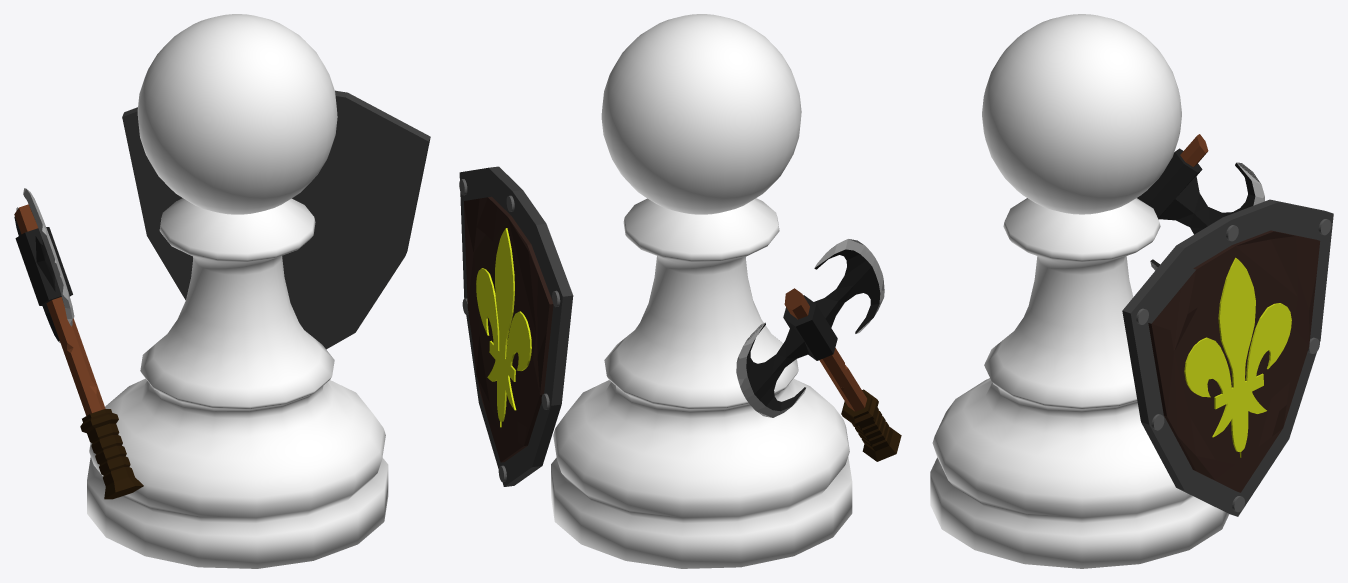
File: pion_guerrier.glb
3 renders of one model, left to right at view 1: azimuth 30°, elevation 25°; view 2: azimuth 150°, elevation 25°; view 3: azimuth 270°, elevation 25°, orthographic.
Visible parts, largest first — view 1: pawn_black, Cylindre.005, Cylindre.001; view 2: pawn_black, Cylindre.005, Cylindre.001; view 3: pawn_black, Cylindre.005, Cylindre.001.
Boxes of the visible parts, box(x1,y1,x2,y2) form: pawn_black: box(87, 14, 388, 568); Cylindre.005: box(122, 90, 430, 349); Cylindre.001: box(14, 188, 143, 499); pawn_black: box(551, 14, 852, 568); Cylindre.005: box(459, 166, 573, 486); Cylindre.001: box(736, 239, 901, 461); pawn_black: box(930, 14, 1229, 568); Cylindre.005: box(1122, 199, 1333, 516); Cylindre.001: box(1137, 134, 1264, 270).
Size of the model in its own units: 1.21 by 1.4 by 1.06.
